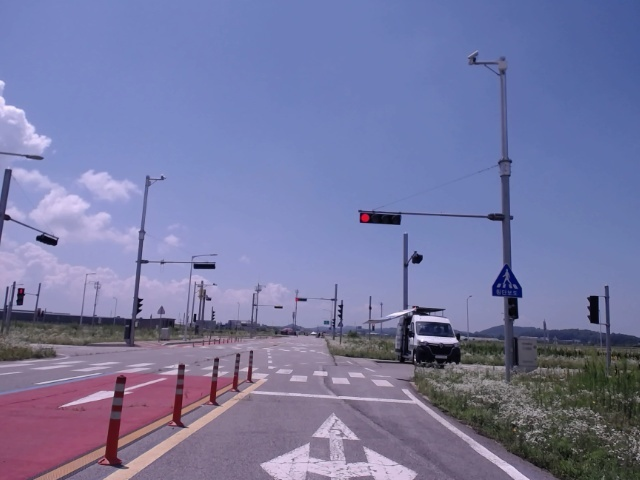red_4: (360, 213, 401, 225)
